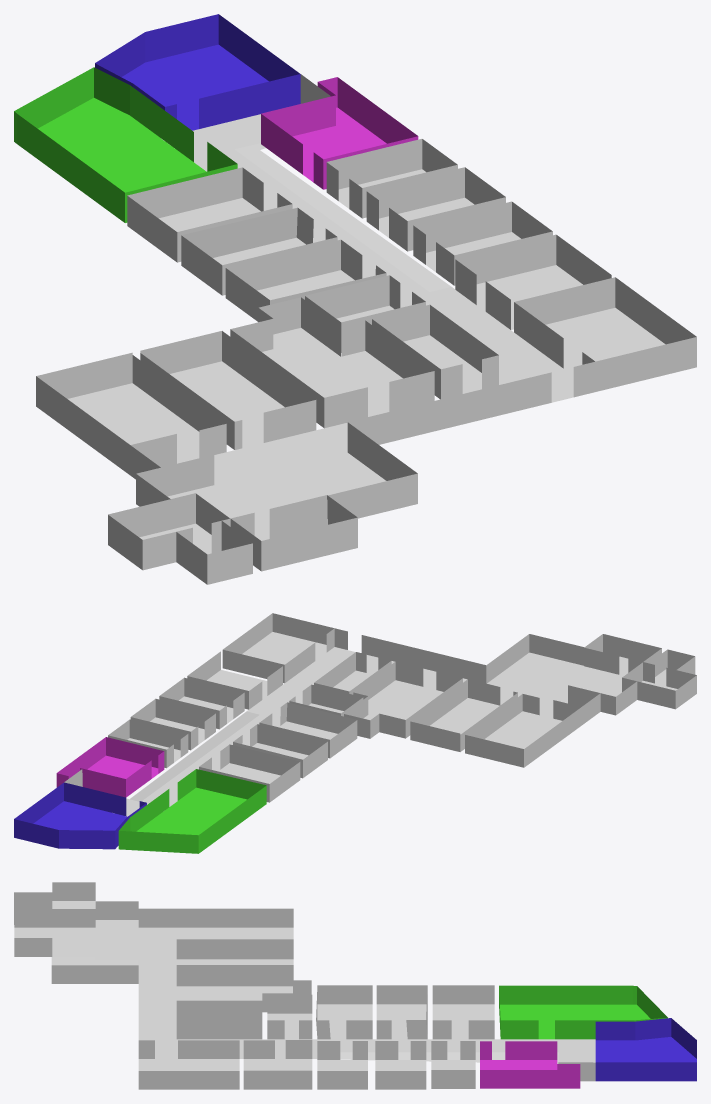
Rendered from plan_manu_v3.glb.
The picture shows the model from 3 angles, top to bottom: view 1: azimuth 30°, elevation 25°; view 2: azimuth 150°, elevation 25°; view 3: azimuth 270°, elevation 25°; orthographic projection. The views are drawn at different scales.
Visible parts, largest first — view 1: Couloir, Python/23, Salle des profs, Salle de pause, Bureau Direction, Spark/51, Cafetaria, Bureau Dev & gest. de sco, Unity/56, Wodpress/52, C++/25, REACT/27 (+9 smaller); view 2: Couloir, Python/23, Cafetaria, Salle de pause, Bureau Direction, Spark/51, Salle des profs, Bureau Dev & gest. de sco, Unity/56, C++/25, REACT/27, PHP/26 (+9 smaller); view 3: Couloir, Python/23, Cafetaria, Salle de pause, Spark/51, Salle des profs, Unity/56, Bureau Direction, C++/25, Wodpress/52, Accueil, Bureau Dev & gest. de sco (+9 smaller).
Boxes of the visible parts, <box> form: Couloir: <box>130,74,595,484</box>; Python/23: <box>14,67,237,222</box>; Salle des profs: <box>230,297,434,428</box>; Salle de pause: <box>95,14,300,130</box>; Bureau Direction: <box>36,352,226,474</box>; Spark/51: <box>514,277,696,391</box>; Cafetaria: <box>136,422,417,540</box>; Bureau Dev & gest. de sco: <box>140,331,316,449</box>; Unity/56: <box>261,77,418,189</box>; Wodpress/52: <box>455,234,611,329</box>; C++/25: <box>127,167,292,262</box>; REACT/27: <box>225,239,386,321</box>; Couloir: <box>64,628,600,816</box>; Python/23: <box>118,769,266,853</box>; Cafetaria: <box>486,634,637,715</box>; Salle de pause: <box>14,782,146,849</box>; Bureau Direction: <box>465,694,581,767</box>; Spark/51: <box>222,613,334,683</box>; Salle des profs: <box>344,661,462,738</box>; Bureau Dev & gest. de sco: <box>410,679,517,751</box>; Unity/56: <box>56,737,164,797</box>; C++/25: <box>199,744,300,802</box>; REACT/27: <box>259,702,357,758</box>; PHP/26: <box>233,724,327,778</box>; Couloir: <box>138,908,595,1081</box>; Python/23: <box>499,985,667,1039</box>; Cafetaria: <box>51,901,138,983</box>; Salle de pause: <box>595,1018,696,1081</box>; Spark/51: <box>138,1040,239,1089</box>; Salle des profs: <box>176,967,311,1012</box>; Unity/56: <box>480,1041,580,1088</box>; Bureau Direction: <box>176,908,293,941</box>; C++/25: <box>432,985,494,1039</box>; Wodpress/52: <box>243,1040,312,1089</box>; Accueil: <box>176,1002,262,1039</box>; Bureau Dev & gest. de sco: <box>176,941,293,980</box>.
Bounding box in the file's own units: 66.45 × 3.91 × 102.
